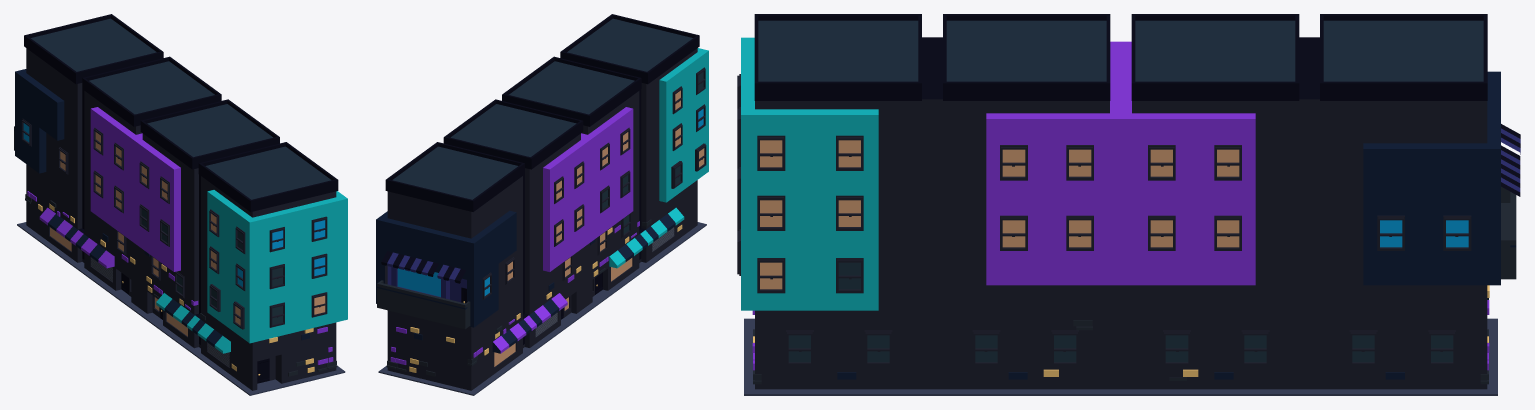
Rendered from Building_MintApartment05.fbx.
The picture shows the model from 3 angles, left to right: view 1: azimuth 30°, elevation 25°; view 2: azimuth 150°, elevation 25°; view 3: azimuth 270°, elevation 25°; orthographic projection. The views are drawn at different scales.
Visible parts, largest first — view 1: Cube.750, Cube.753; view 2: Cube.750; view 3: Cube.750.
Part boxes in pixels (x1=…): Cube.750: x1=14, y1=14, x2=347, y2=395; Cube.753: x1=257, y1=358, x2=269, y2=383; Cube.750: x1=376, y1=14, x2=708, y2=395; Cube.750: x1=737, y1=14, x2=1520, y2=395.
Size of the model in its own units: 683 by 1211 by 2774.
